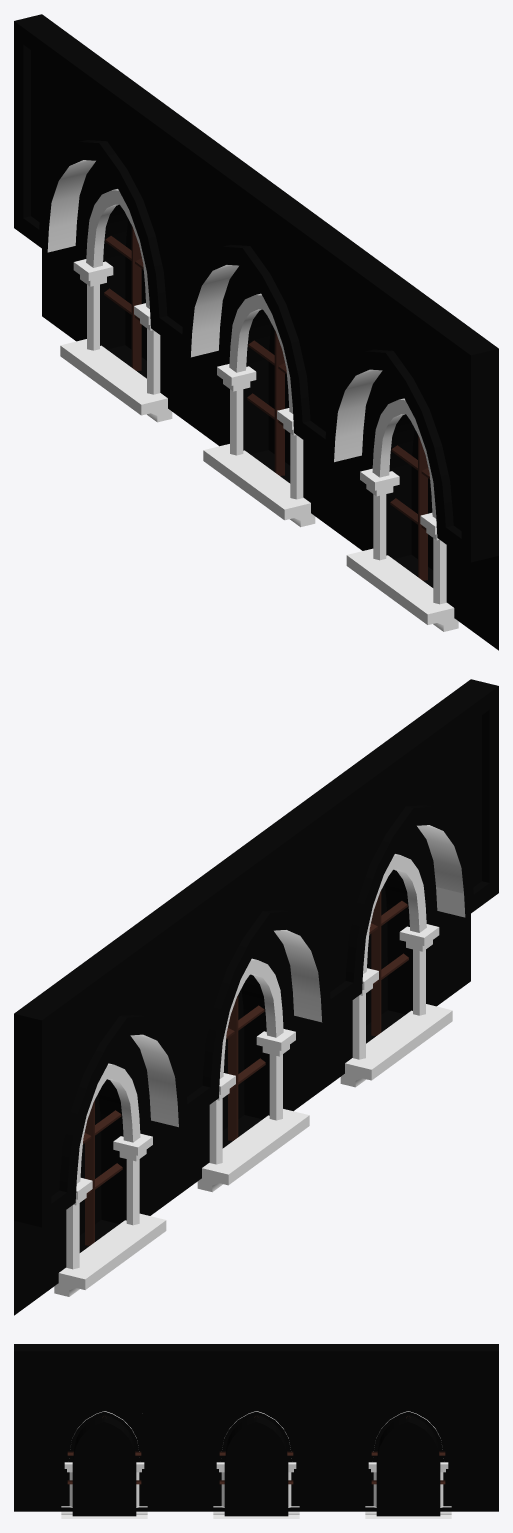
File: standard_window_23.FBX
3 renders of one model, top to bottom at view 1: azimuth 30°, elevation 25°; view 2: azimuth 150°, elevation 25°; view 3: azimuth 270°, elevation 25°, orthographic. The views are drawn at different scales.
Parts seen in each view (by area): view 1: standard_window_23; view 2: standard_window_23; view 3: standard_window_23.
Boxes of the visible parts, bbox=[...] form: standard_window_23: bbox=[14, 14, 498, 650]; standard_window_23: bbox=[14, 679, 498, 1315]; standard_window_23: bbox=[14, 1344, 498, 1518].
Bounding box in the file's own units: 70.92 × 379 × 1000.
